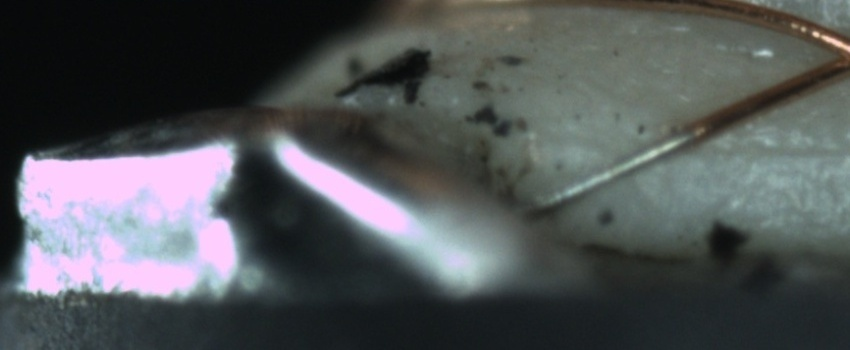CL: (805, 18, 849, 84)
DL: (689, 118, 850, 185)
TS: (528, 128, 697, 214)
